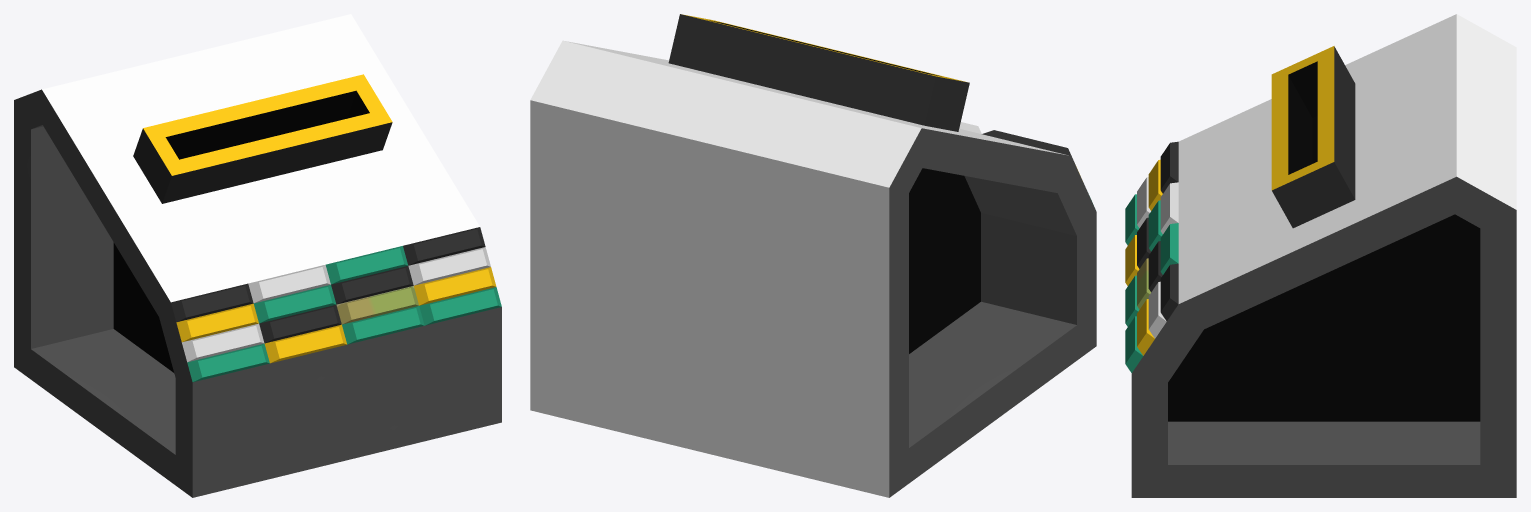
The model's file is Holograma_Disc_Player.gltf.
3 renders of one model, left to right at view 1: azimuth 30°, elevation 25°; view 2: azimuth 150°, elevation 25°; view 3: azimuth 270°, elevation 25°, orthographic. The views are drawn at different scales.
Parts seen in each view (by area): view 1: Disc_Player; view 2: Disc_Player; view 3: Disc_Player.
Boxes of the visible parts, bbox=[...] form: Disc_Player: bbox=[14, 14, 501, 497]; Disc_Player: bbox=[530, 14, 1096, 497]; Disc_Player: bbox=[1125, 14, 1516, 497].
Size of the model in its own units: 1.05 by 0.9648 by 1.06.
Materials: 1 (1 with a texture image).
